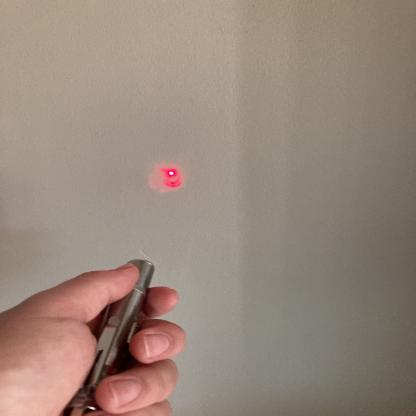target: (163, 166, 180, 184)
